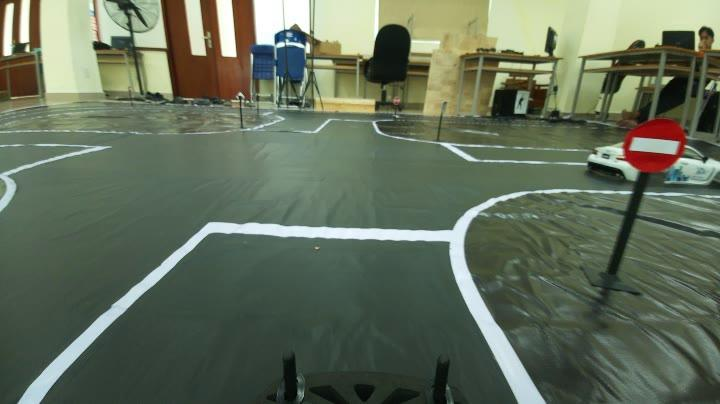no_entry: (617, 116, 687, 170)
